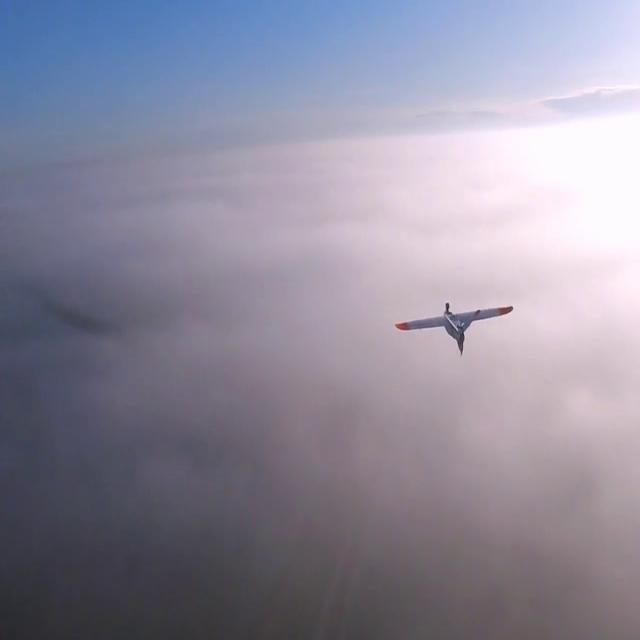iha: (420, 294, 477, 350)
